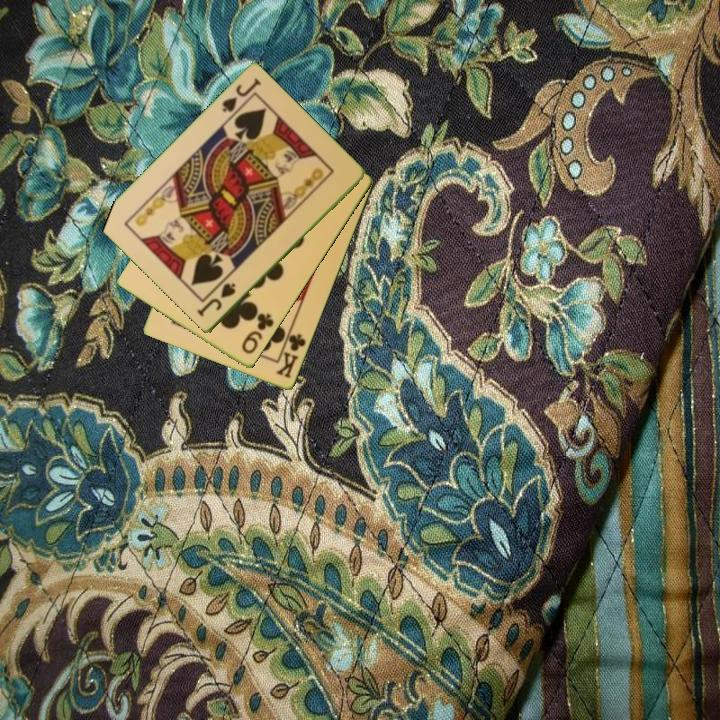9c: (238, 310, 277, 357)
Js: (218, 75, 264, 116), (194, 279, 239, 320)
Kc: (273, 326, 309, 382)
